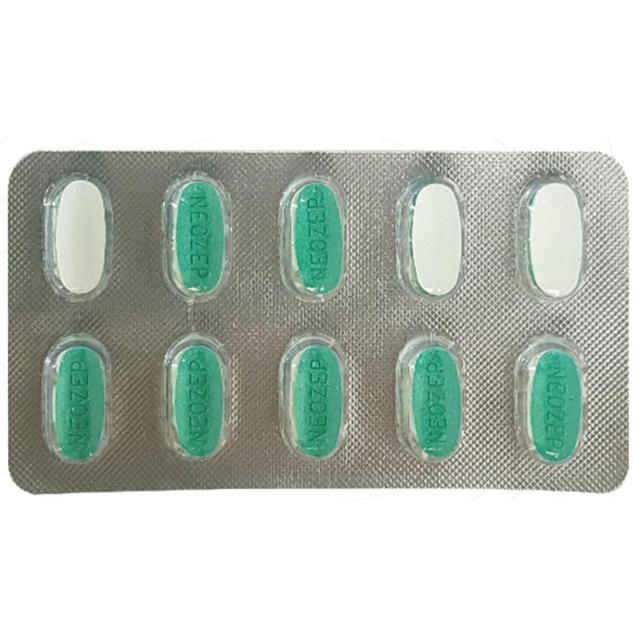blister: (2, 141, 634, 501)
